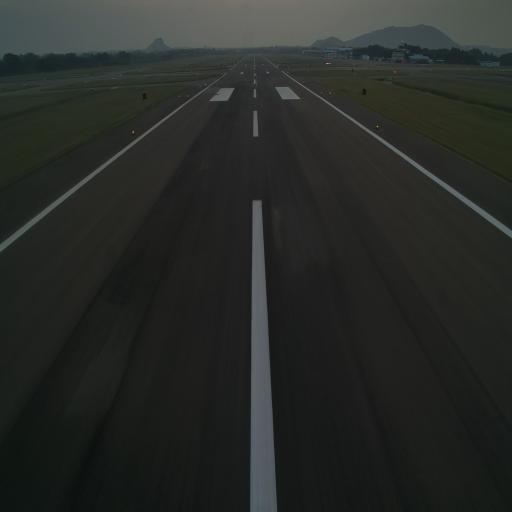on: (132, 128, 136, 138), (375, 123, 380, 130)
